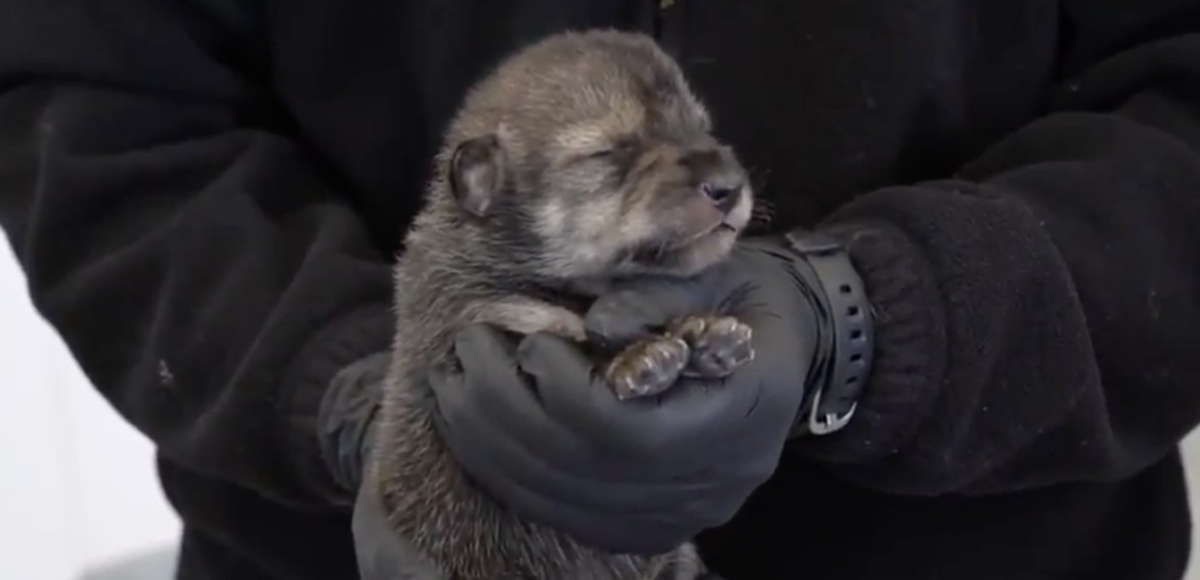Lobo: (375, 67, 838, 331)
